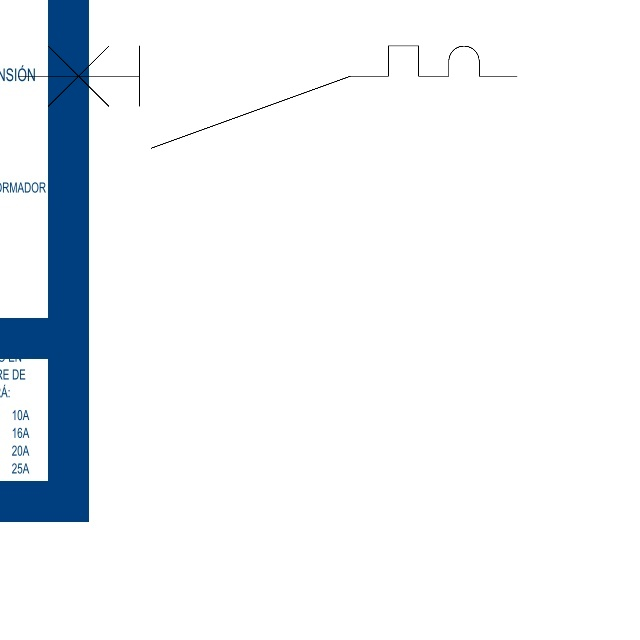interruptor_termomagnetico: (5, 33, 530, 161)
